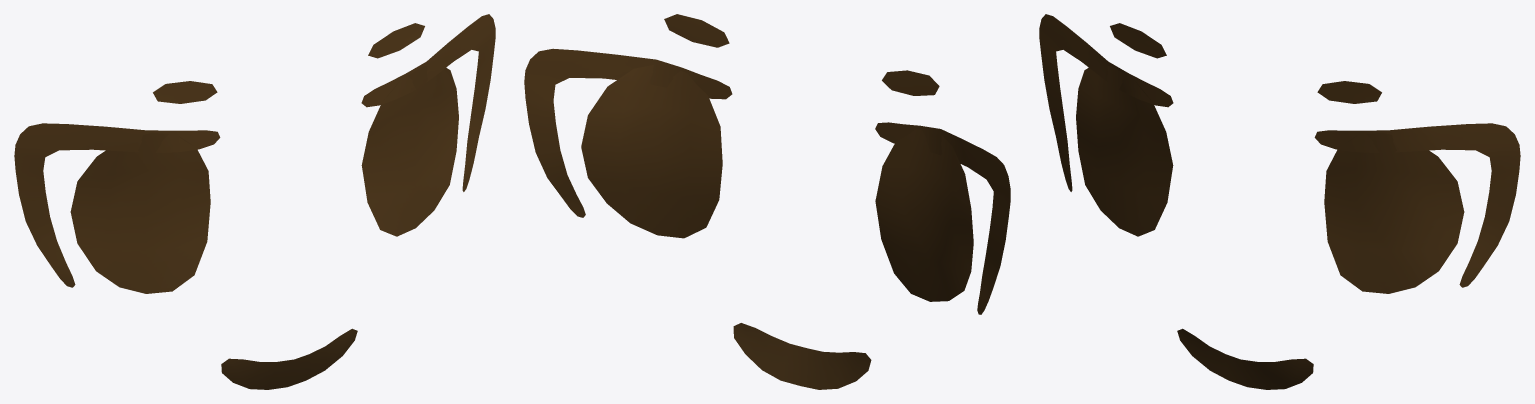
File: Face Neutral Ruj.fbx
3 views of the same model, side by side, from view 1: azimuth 30°, elevation 25°; view 2: azimuth 150°, elevation 25°; view 3: azimuth 330°, elevation 25° (orthographic).
Visible parts, largest first — view 1: Plane; view 2: Plane; view 3: Plane.
Part boxes in pixels (bbox=[...]): Plane: bbox=[14, 14, 495, 389]; Plane: bbox=[524, 14, 1010, 389]; Plane: bbox=[1039, 14, 1520, 389].
Size of the model in its own units: 41.74 by 27.82 by 5.95.
1 material, 1 textured.
